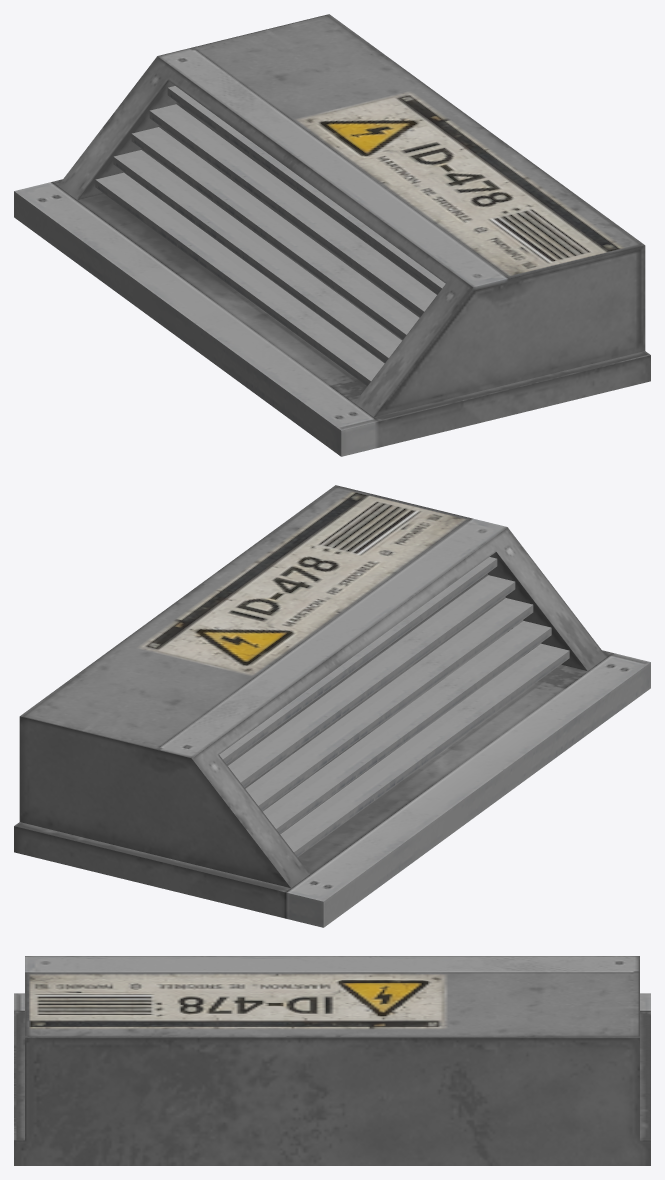
Rendered from CP_Range_Hood.fbx.
3 renders of one model, top to bottom at view 1: azimuth 30°, elevation 25°; view 2: azimuth 150°, elevation 25°; view 3: azimuth 270°, elevation 25°, orthographic. The views are drawn at different scales.
Visible parts, largest first — view 1: CP_Range_Hood; view 2: CP_Range_Hood; view 3: CP_Range_Hood.
Part boxes in pixels (<box>): CP_Range_Hood: <box>14,14,650,456</box>; CP_Range_Hood: <box>14,485,650,927</box>; CP_Range_Hood: <box>14,956,650,1165</box>.
Bounding box in the file's own units: 71.45 × 29.06 × 131.
